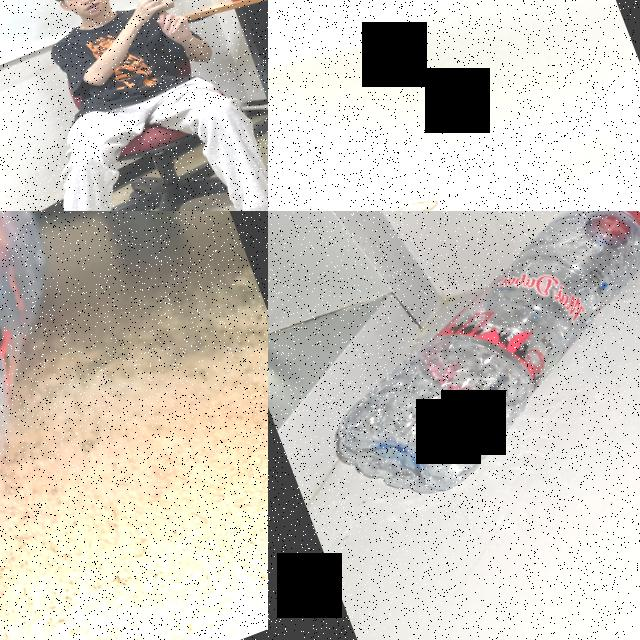bottle: (289, 211, 640, 523), (0, 211, 160, 640)
cup: (382, 192, 458, 211), (134, 0, 180, 16)
